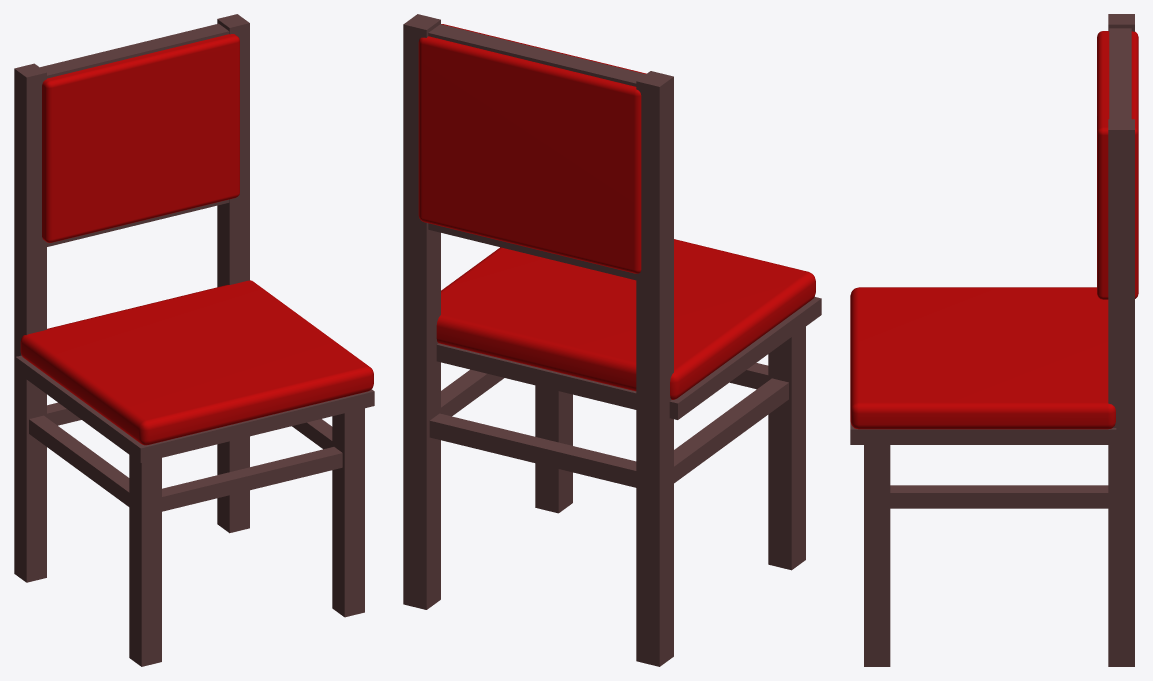
Rendered from chair3.obj.
3 renders of one model, left to right at view 1: azimuth 30°, elevation 25°; view 2: azimuth 150°, elevation 25°; view 3: azimuth 270°, elevation 25°, orthographic. The views are drawn at different scales.
Visible parts, largest first — view 1: chair3; view 2: chair3; view 3: chair3.
Boxes of the visible parts, bbox=[...] form: chair3: bbox=[14, 14, 374, 666]; chair3: bbox=[403, 14, 821, 666]; chair3: bbox=[850, 14, 1138, 666].
Size of the model in its own units: 0.546 by 1.12 by 0.5431.
